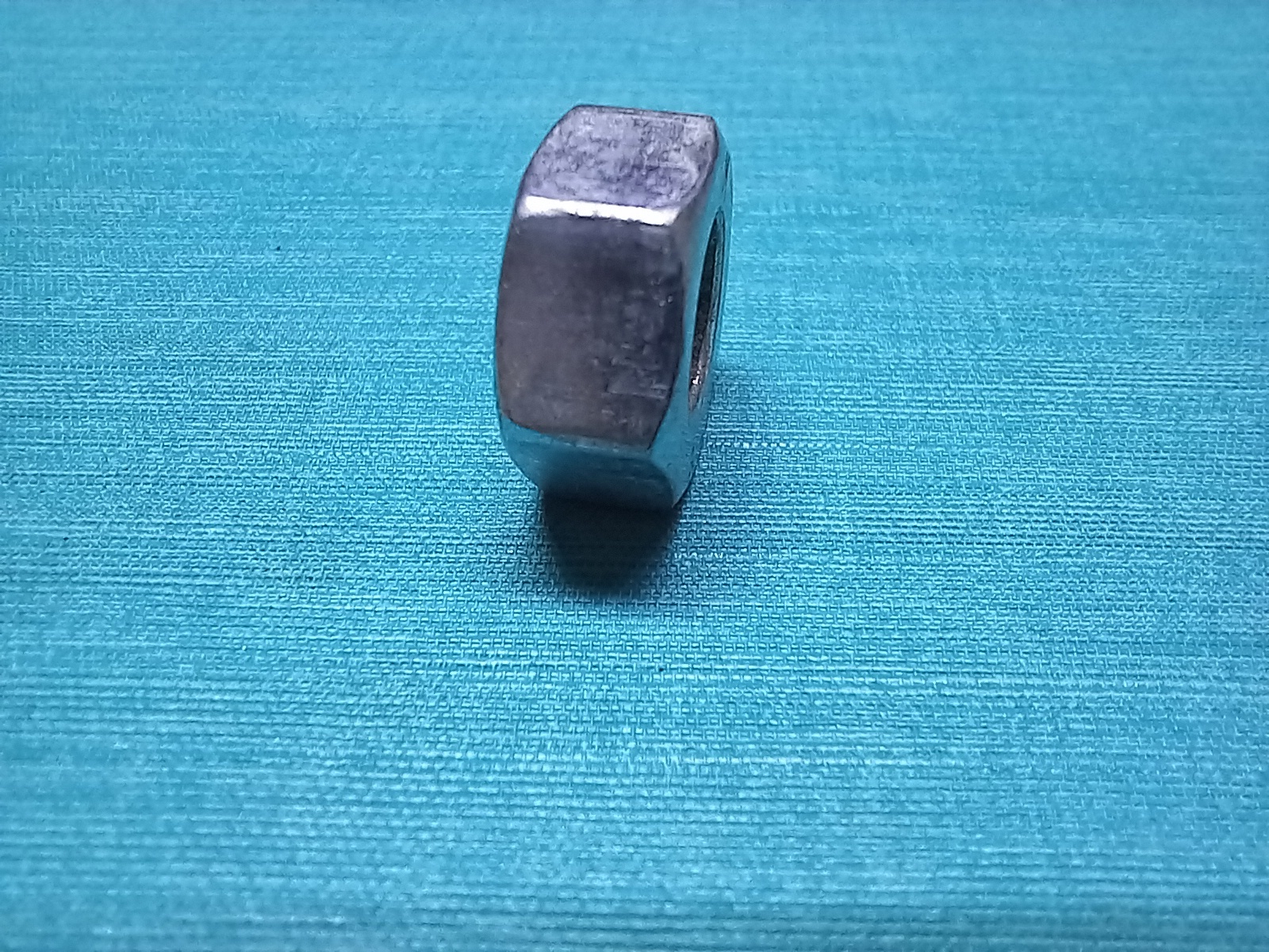nut: (381, 79, 831, 689)
